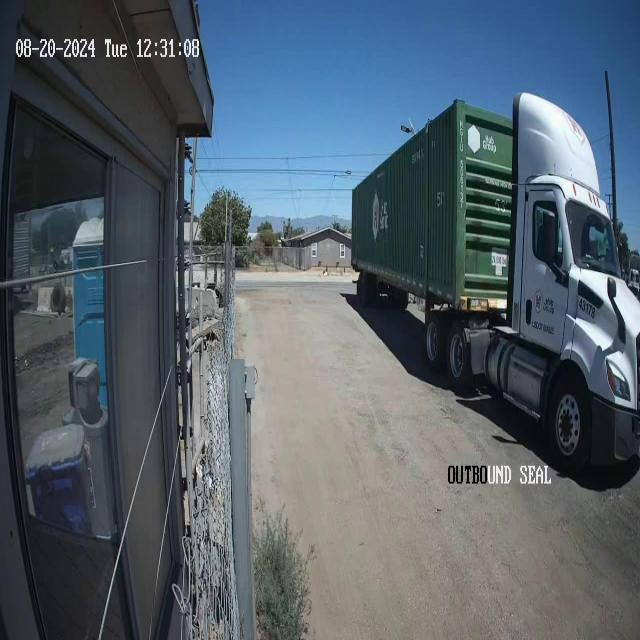CONTAINER: (350, 90, 519, 312)
